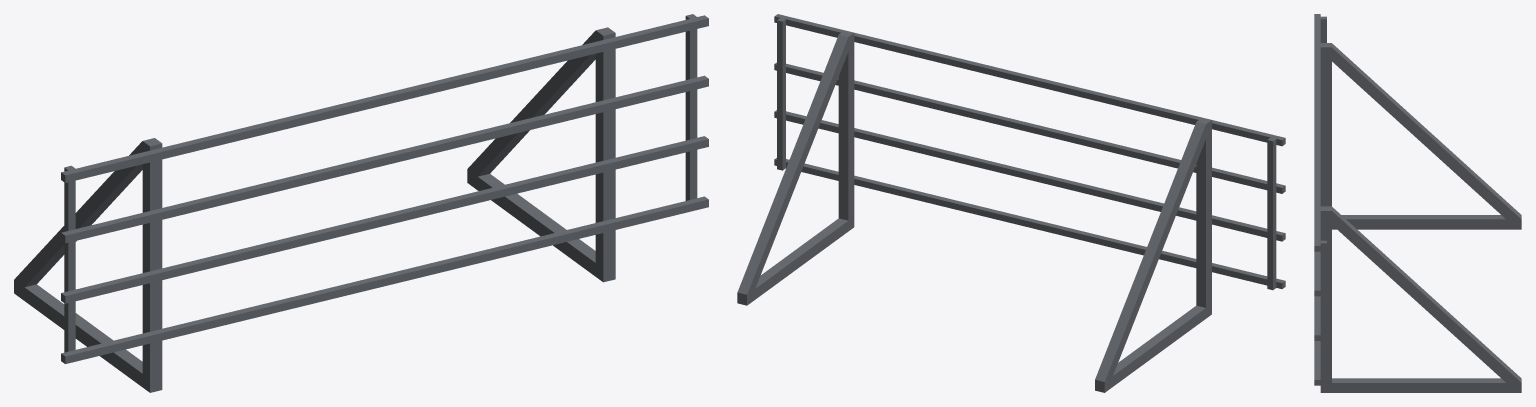
Rendered from SM_Sign_Backing_Short_05.obj.
The picture shows the model from 3 angles, left to right: view 1: azimuth 30°, elevation 25°; view 2: azimuth 150°, elevation 25°; view 3: azimuth 270°, elevation 25°; orthographic projection. The views are drawn at different scales.
Visible parts, largest first — view 1: SM_Sign_Backing_Short_05_0; view 2: SM_Sign_Backing_Short_05_0; view 3: SM_Sign_Backing_Short_05_0.
Part boxes in pixels (x1,y1,x2,y2): SM_Sign_Backing_Short_05_0: (14,14,708,392); SM_Sign_Backing_Short_05_0: (737,14,1285,392); SM_Sign_Backing_Short_05_0: (1314,14,1521,392).
Bounding box in the file's own units: 4.97 × 1.82 × 1.88.
Materials: 1 (1 with a texture image).
